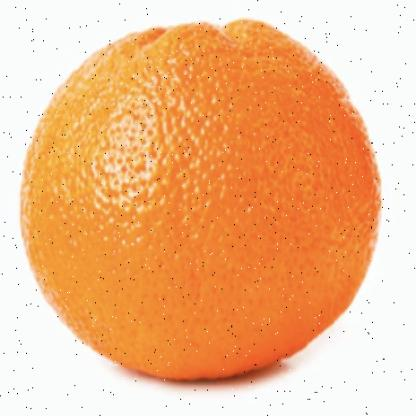fresh: (20, 21, 382, 386)
